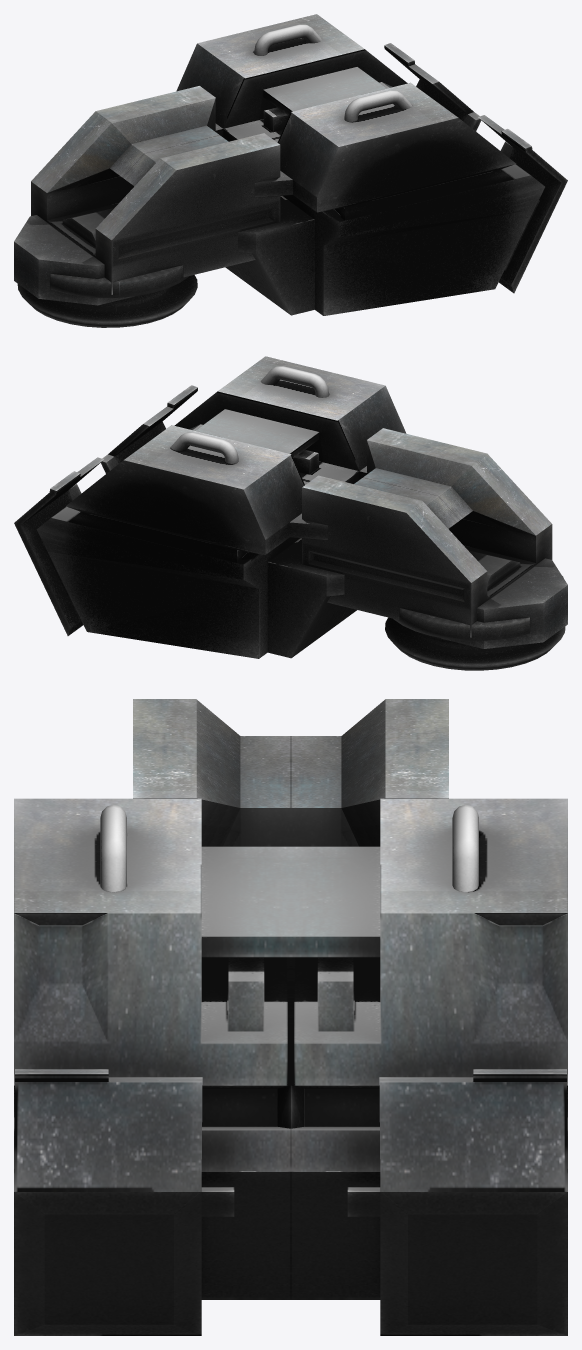
The model's file is two_wheel.dae.
3 renders of one model, top to bottom at view 1: azimuth 30°, elevation 25°; view 2: azimuth 150°, elevation 25°; view 3: azimuth 270°, elevation 25°, orthographic. The views are drawn at different scales.
Parts seen in each view (by area): view 1: Cube.010; view 2: Cube.010; view 3: Cube.010.
Part boxes in pixels (x1,y1,x2,y2): Cube.010: (14,14,567,327); Cube.010: (14,356,567,670); Cube.010: (14,699,567,1335).
Size of the model in its own units: 5.02 by 2.62 by 2.12.
